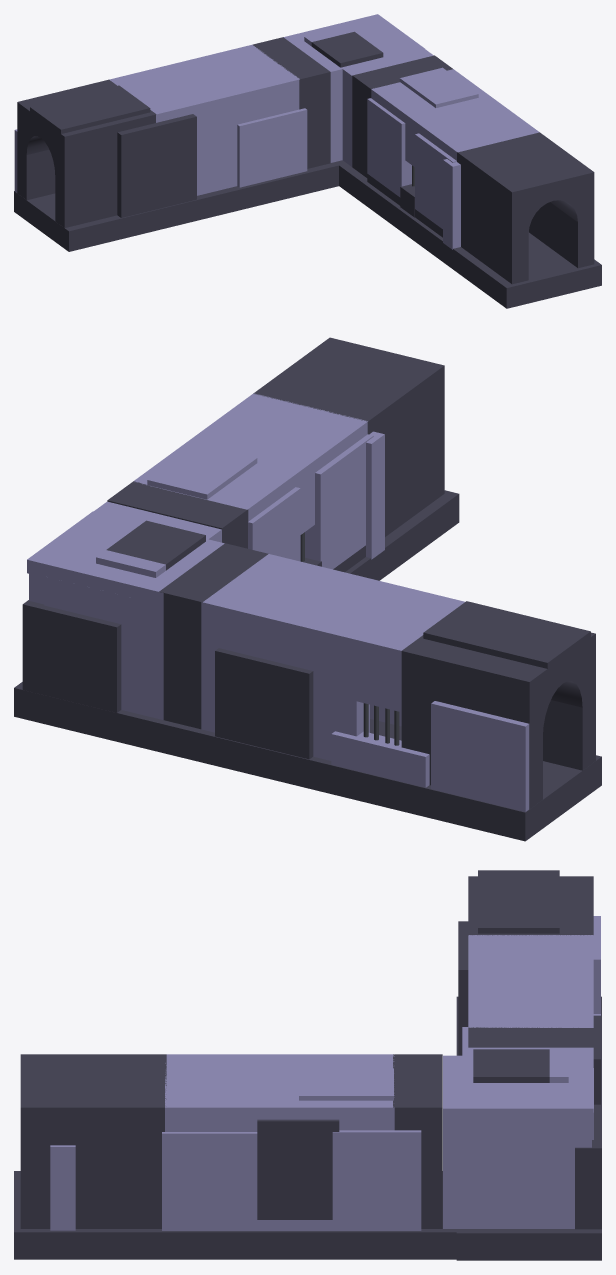
Rendered from RightHallwayWithWindows.obj.
The picture shows the model from 3 angles, top to bottom: view 1: azimuth 30°, elevation 25°; view 2: azimuth 150°, elevation 25°; view 3: azimuth 270°, elevation 25°; orthographic projection. The views are drawn at different scales.
Parts seen in each view (by area): view 1: block_gate%, block; view 2: block, block_gate%, cylinder; view 3: block, block_gate%.
Part boxes in pixels (x1,y1,x2,y2): block_gate%: [17, 37, 594, 284]; block: [14, 14, 601, 308]; block: [14, 431, 601, 841]; block_gate%: [107, 337, 595, 809]; cylinder: [300, 532, 399, 745]; block: [14, 870, 601, 1260]; block_gate%: [20, 876, 593, 1228].
Size of the model in its own units: 6.15 by 1.87 by 6.47.
